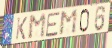0: (79, 8, 90, 33)
6: (93, 5, 106, 33)
E: (45, 11, 61, 38)
K: (15, 16, 29, 41)
M: (27, 13, 47, 41), (59, 9, 78, 37)
